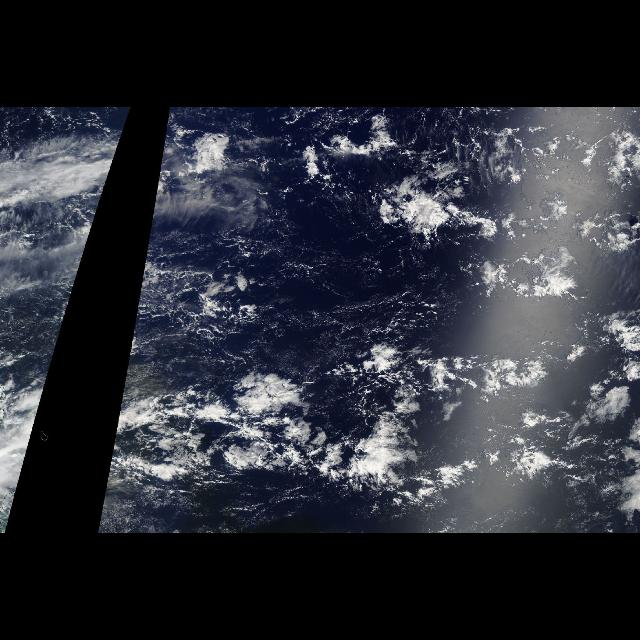Flower: (234, 350, 560, 518), (334, 122, 638, 302)
